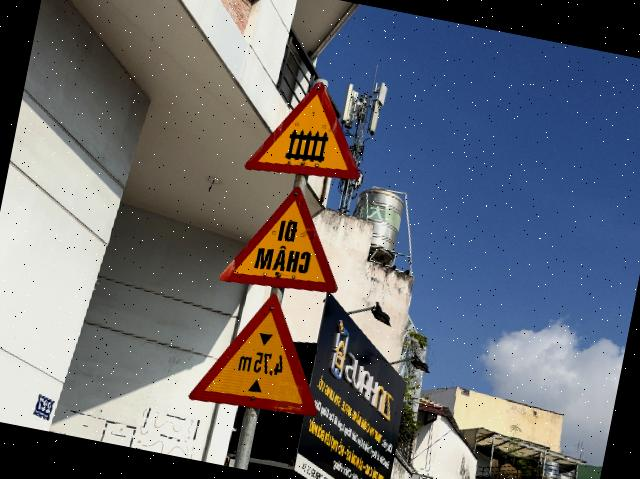chieu-cao-tinh-khong-thuc-te: (187, 280, 338, 424)
di-cham: (218, 174, 356, 304)
noi-giao-nhau-voi-duong-sat-co-rao-chan: (243, 68, 376, 191)
